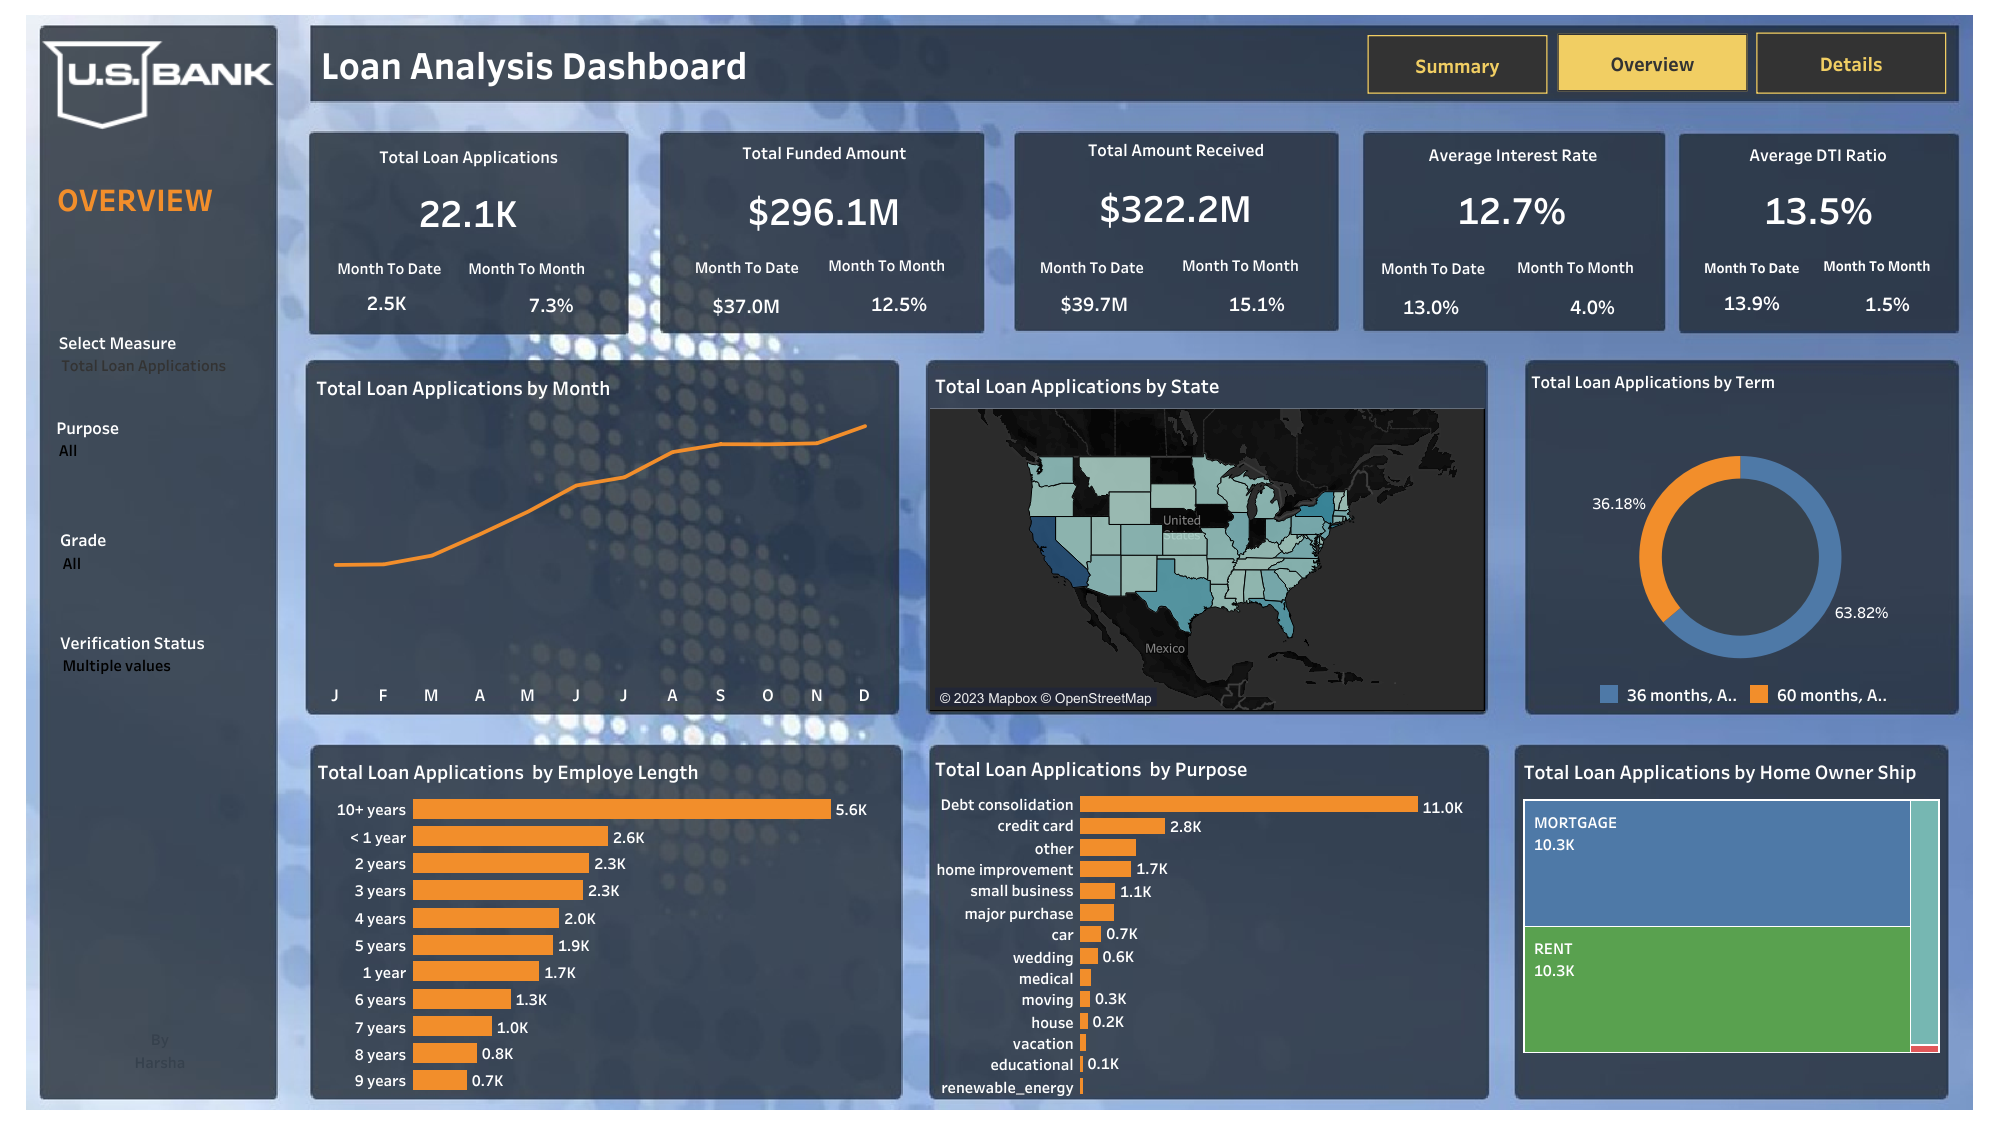

What the dashboard file says about the page in this screenshot:
{"tool":"tableau","page":{"name":"Overview","canvas":[1600,900],"ordinal":1},"visuals":[{"type":"image","param":"Image/Background 2.JPG","box":[8,8,1584,884]},{"type":"image","param":"Image/image (2).png","box":[33,16,187,104]},{"type":"text","box":[254,26,561,50]},{"type":"dashboard-object","box":[1405,26,152,49]},{"type":"dashboard-object","box":[1246,27,152,46]},{"type":"dashboard-object","box":[1094,28,144,47]},{"type":"worksheet","title":"Total Amount Received","mark":"Automatic","box":[814,104,254,89]},{"type":"worksheet","title":"Total Funded Amount","mark":"Automatic","box":[531,106,257,91]},{"type":"worksheet","title":"Average Interest Rate","mark":"Automatic","box":[1092,108,237,85]},{"type":"worksheet","title":"Average DTI Ratio","mark":"Automatic","box":[1346,108,217,84]},{"type":"worksheet","title":"Total Loan Applications","mark":"Automatic","box":[248,109,254,86]},{"type":"text","box":[43,131,168,55]},{"type":"text","box":[660,197,124,30]},{"type":"text","box":[943,197,124,30]},{"type":"text","box":[1456,197,124,30]},{"type":"text","box":[542,198,111,30]},{"type":"text","box":[818,198,111,30]},{"type":"text","box":[1211,198,124,30]},{"type":"text","box":[1346,198,111,30]},{"type":"text","box":[256,199,111,30]},{"type":"text","box":[372,199,124,30]},{"type":"text","box":[1091,199,111,30]},{"type":"worksheet","title":"Month to Date Average DTI Ratio","mark":"Automatic","box":[1360,219,84,46]},{"type":"worksheet","title":"Month on Month Total Funded Amount","mark":"Automatic","box":[665,220,110,46]},{"type":"worksheet","title":"Month on Month Total Amount Received","mark":"Automatic","box":[948,220,116,45]},{"type":"worksheet","title":"Month to Date Total Loan Applications","mark":"Automatic","box":[250,221,120,42]},{"type":"worksheet","title":"Month to Date Total Amount Received","mark":"Automatic","box":[814,221,123,44]},{"type":"worksheet","title":"Month on Month Average Interest Rate","mark":"Automatic","box":[1220,221,108,48]},{"type":"worksheet","title":"Month on Month Average DTI Ratio","mark":"Automatic","box":[1468,221,85,44]},{"type":"worksheet","title":"Month on Month Loan Applications","mark":"Automatic","box":[384,222,114,42]},{"type":"worksheet","title":"Month to Date Average Interest Rate","mark":"Automatic","box":[1098,222,93,46]},{"type":"worksheet","title":"Month to Date Total Funded Amount","mark":"Automatic","box":[536,223,124,42]},{"type":"parameter","param":"[Parameters].[Parameter 1]","box":[47,263,160,48]},{"type":"worksheet","title":"Term","mark":"Pie","rows":["Calculation_1369375792313581612","Calculation_1369375792313610286"],"box":[1221,289,343,279]},{"type":"worksheet","title":"State","mark":"Multipolygon","box":[744,291,443,277]},{"type":"worksheet","title":"Month","mark":"Automatic","rows":["Calculation_1369375792304644134"],"cols":["issue_date"],"box":[249,293,462,272]},{"type":"filter","title":"Average DTI Ratio","param":"[federated.1i9lje30umfta41eqbz8p0mizr2h].[none:purpose:nk]","box":[45,331,160,61]},{"type":"filter","title":"Average DTI Ratio","param":"[federated.1i9lje30umfta41eqbz8p0mizr2h].[none:grade:nk]","box":[48,421,160,59]},{"type":"filter","title":"Average DTI Ratio","param":"[federated.1i9lje30umfta41eqbz8p0mizr2h].[none:verification_status:nk]","box":[48,503,160,73]},{"type":"legend","title":"Term","param":"[federated.1i9lje30umfta41eqbz8p0mizr2h].[none:term:nk]\n[federated.1i9lje30umfta","box":[1277,545,242,32]},{"type":"worksheet","title":"Purpose","mark":"Automatic","rows":["purpose"],"cols":["Calculation_1369375792304644134"],"box":[744,598,446,279]},{"type":"worksheet","title":"Employe Length","mark":"Automatic","rows":["emp_length"],"cols":["Calculation_1369375792304644134"],"box":[250,600,466,275]},{"type":"worksheet","title":"Home Owner Ship","mark":"Automatic","box":[1215,600,340,275]},{"type":"text","box":[78,819,100,42]}]}

Visuals, with their boxes in screenshot pixels (x1, y1, x2, y2), scaled from the page's 1600x900 canvas onto the 1999x1124 screenshot:
image: (10, 10, 1989, 1114)
image: (41, 20, 275, 150)
text: (317, 32, 1018, 95)
dashboard-object: (1755, 32, 1945, 94)
dashboard-object: (1557, 34, 1747, 91)
dashboard-object: (1367, 35, 1547, 94)
"Total Amount Received" worksheet: (1017, 130, 1334, 241)
"Total Funded Amount" worksheet: (663, 132, 985, 246)
"Average Interest Rate" worksheet: (1364, 135, 1660, 241)
"Average DTI Ratio" worksheet: (1682, 135, 1953, 240)
"Total Loan Applications" worksheet: (310, 136, 627, 244)
text: (54, 164, 264, 232)
text: (825, 246, 980, 283)
text: (1178, 246, 1333, 283)
text: (1819, 246, 1974, 283)
text: (677, 247, 816, 285)
text: (1022, 247, 1161, 285)
text: (1513, 247, 1668, 285)
text: (1682, 247, 1820, 285)
text: (320, 249, 459, 286)
text: (465, 249, 620, 286)
text: (1363, 249, 1502, 286)
"Month to Date Average DTI Ratio" worksheet: (1699, 274, 1804, 331)
"Month on Month Total Funded Amount" worksheet: (831, 275, 968, 332)
"Month on Month Total Amount Received" worksheet: (1184, 275, 1329, 331)
"Month to Date Total Loan Applications" worksheet: (312, 276, 462, 328)
"Month to Date Total Amount Received" worksheet: (1017, 276, 1171, 331)
"Month on Month Average Interest Rate" worksheet: (1524, 276, 1659, 336)
"Month on Month Average DTI Ratio" worksheet: (1834, 276, 1940, 331)
"Month on Month Loan Applications" worksheet: (480, 277, 622, 330)
"Month to Date Average Interest Rate" worksheet: (1372, 277, 1488, 335)
"Month to Date Total Funded Amount" worksheet: (670, 279, 825, 331)
parameter: (59, 328, 259, 388)
"Term" worksheet (Pie marks): (1525, 361, 1954, 709)
"State" worksheet (Multipolygon marks): (930, 363, 1483, 709)
"Month" worksheet: (311, 366, 888, 706)
"Average DTI Ratio" filter: (56, 413, 256, 490)
"Average DTI Ratio" filter: (60, 526, 260, 599)
"Average DTI Ratio" filter: (60, 628, 260, 719)
"Term" legend: (1595, 681, 1898, 721)
"Purpose" worksheet: (930, 747, 1487, 1095)
"Employe Length" worksheet: (312, 749, 895, 1093)
"Home Owner Ship" worksheet: (1518, 749, 1943, 1093)
text: (97, 1023, 222, 1075)
